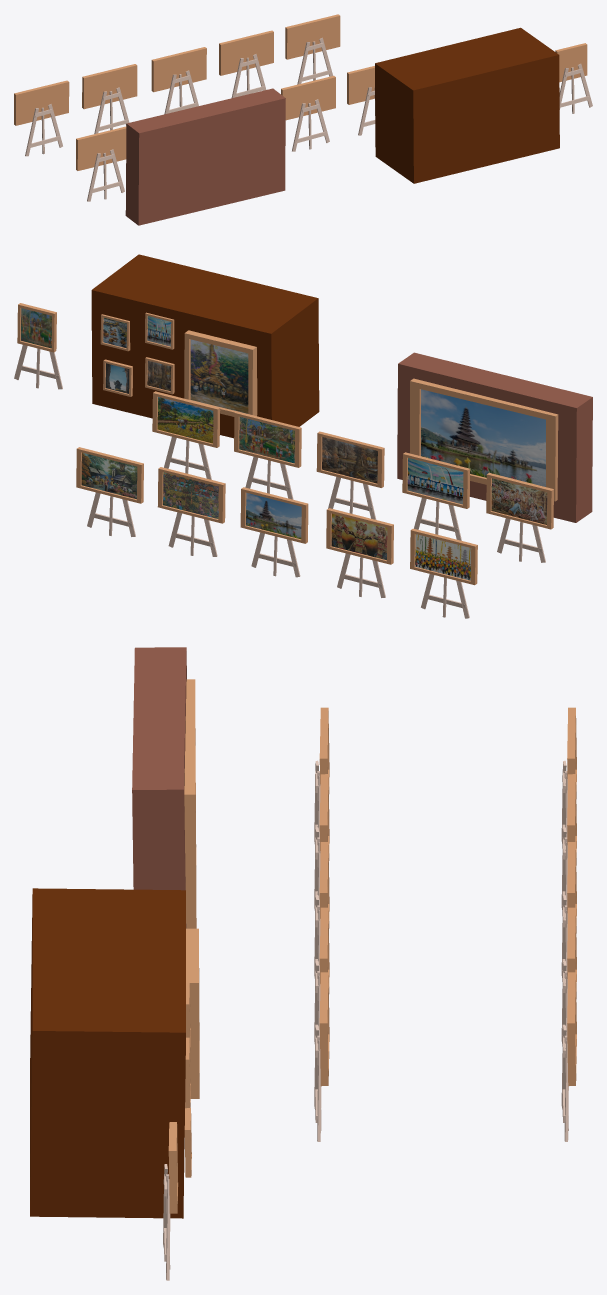
Rendered from Frame (1).fbx.
3 renders of one model, top to bottom at view 1: azimuth 30°, elevation 25°; view 2: azimuth 150°, elevation 25°; view 3: azimuth 270°, elevation 25°, orthographic. The views are drawn at different scales.
Parts seen in each view (by area): view 1: Plane.001, Plane.008, Plane.016, Plane.015, Plane.017, Plane.014, Plane.018, Plane.006, Plane.013, Plane.010, Plane.009, standing.002 (+8 smaller); view 2: Plane.001, Plane.007, Plane.008, Plane.002, Plane.013, Plane.014, Plane.015, Plane.017, Plane.006, Plane.018, Plane.011, Plane.016 (+18 smaller); view 3: Plane.001, Plane.008, Plane.007, Plane.002, Plane.010, Plane.017, Plane.009.
Part boxes in pixels (<box>): Plane.001: <box>375,27,559,183</box>; Plane.008: <box>125,88,285,225</box>; Plane.016: <box>151,47,206,92</box>; Plane.015: <box>82,64,137,109</box>; Plane.017: <box>285,14,340,59</box>; Plane.014: <box>14,80,69,125</box>; Plane.018: <box>219,30,273,75</box>; Plane.006: <box>281,76,335,120</box>; Plane.013: <box>76,126,126,170</box>; Plane.010: <box>347,66,374,104</box>; Plane.009: <box>555,43,587,82</box>; standing.002: <box>292,99,329,151</box>; Plane.001: <box>91,254,319,438</box>; Plane.007: <box>410,378,558,501</box>; Plane.008: <box>397,352,592,522</box>; Plane.002: <box>184,330,257,416</box>; Plane.013: <box>486,472,553,529</box>; Plane.014: <box>410,528,477,585</box>; Plane.015: <box>326,508,393,564</box>; Plane.017: <box>76,447,143,503</box>; Plane.006: <box>234,411,301,467</box>; Plane.018: <box>157,467,225,523</box>; Plane.011: <box>316,431,384,487</box>; Plane.016: <box>240,487,308,543</box>; Plane.001: <box>30,888,185,1218</box>; Plane.008: <box>132,647,186,928</box>; Plane.007: <box>184,679,196,928</box>; Plane.002: <box>186,928,199,1098</box>; Plane.010: <box>319,972,329,1086</box>; Plane.017: <box>567,972,576,1086</box>; Plane.009: <box>168,1122,178,1213</box>.
Size of the model in its own units: 18574 by 3860 by 9233.
